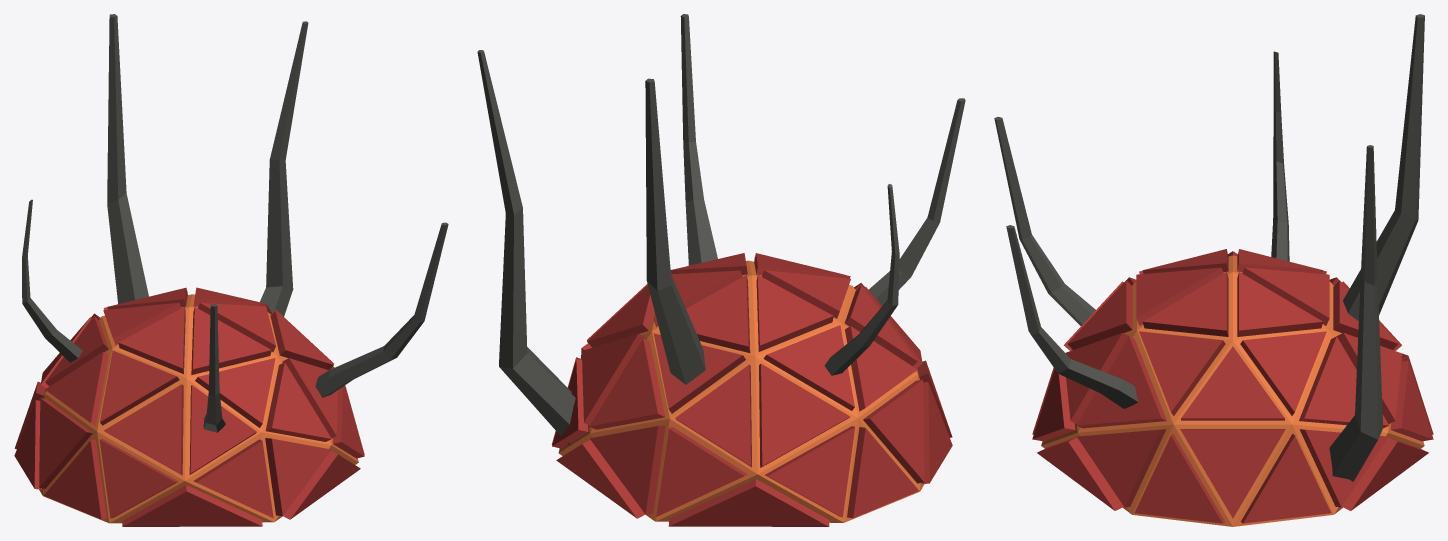
The model's file is RAS_Plant01.fbx.
3 renders of one model, left to right at view 1: azimuth 30°, elevation 25°; view 2: azimuth 150°, elevation 25°; view 3: azimuth 270°, elevation 25°, orthographic. The views are drawn at different scales.
Parts seen in each view (by area): view 1: RAS_Plant01; view 2: RAS_Plant01; view 3: RAS_Plant01.
Boxes of the visible parts, left/top/right/bottom form: RAS_Plant01: left=14, top=14, right=448, bottom=526; RAS_Plant01: left=477, top=14, right=965, bottom=526; RAS_Plant01: left=994, top=14, right=1433, bottom=526.
Size of the model in its own units: 200 by 222 by 204.
1 material, 1 textured.
